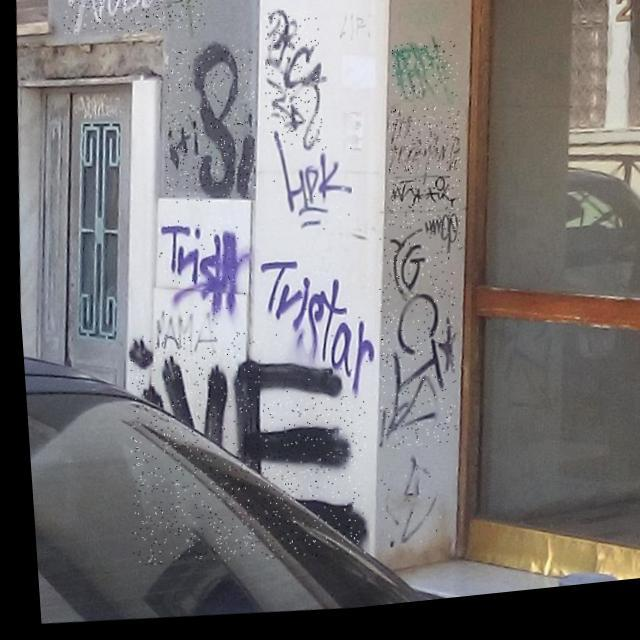-: (112, 320, 371, 580), (362, 228, 462, 462), (248, 256, 378, 412), (156, 45, 260, 212), (150, 218, 250, 324), (256, 10, 326, 158), (263, 132, 354, 244), (368, 460, 441, 556), (380, 182, 462, 265), (61, 0, 209, 43), (382, 112, 462, 187), (388, 48, 459, 112), (148, 313, 218, 362)
